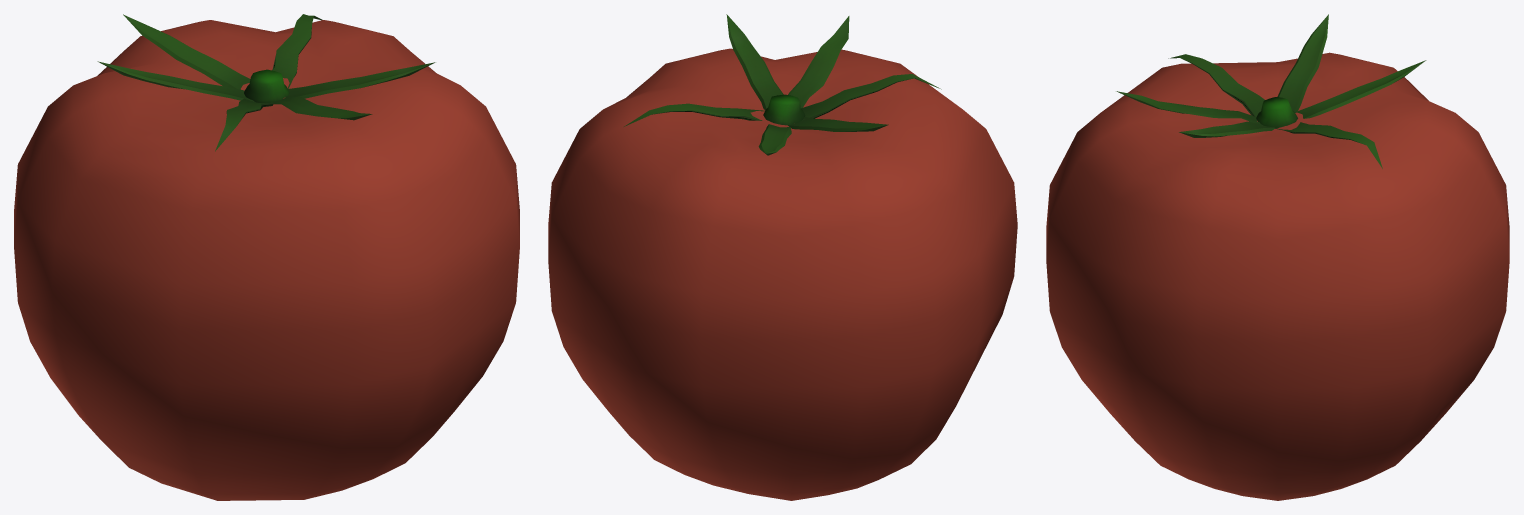
The model's file is tomato.fbx.
3 renders of one model, left to right at view 1: azimuth 30°, elevation 25°; view 2: azimuth 150°, elevation 25°; view 3: azimuth 270°, elevation 25°, orthographic. The views are drawn at different scales.
Parts seen in each view (by area): view 1: tomato_UV:calyx4; view 2: tomato_UV:calyx4; view 3: tomato_UV:calyx4.
Boxes of the visible parts, x1,y1,x2,y2 form: tomato_UV:calyx4: (14, 14, 519, 500); tomato_UV:calyx4: (548, 14, 1017, 500); tomato_UV:calyx4: (1046, 14, 1509, 500).
Bounding box in the file's own units: 28.97 × 27.1 × 29.54.
